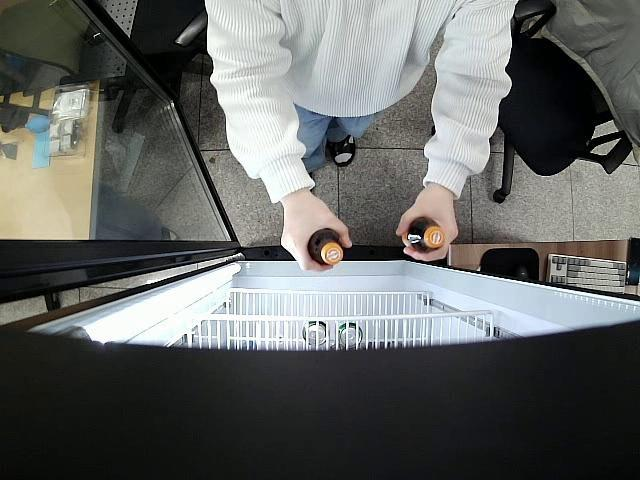17_vita500: (402, 213, 444, 253), (308, 228, 344, 264)
